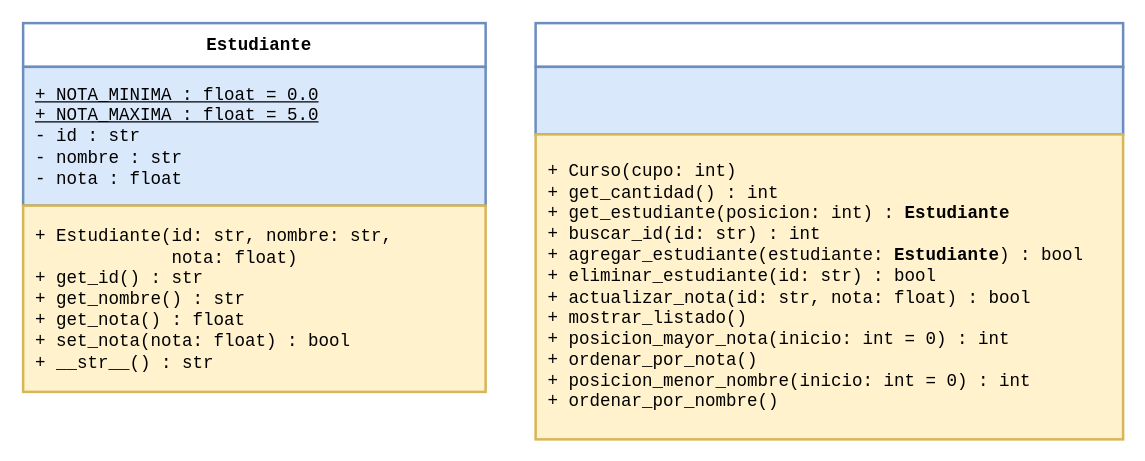
Some shapes in this 1145 by 461 pixel diagram are drawn without their labels. Here are the shapes that lost their labels. From the top down, the centre of each, then its label:
At (x=829, y=44): "Curso".
At (x=829, y=100): "- estudiantes : Estudiante [*] - cantidad : int".
